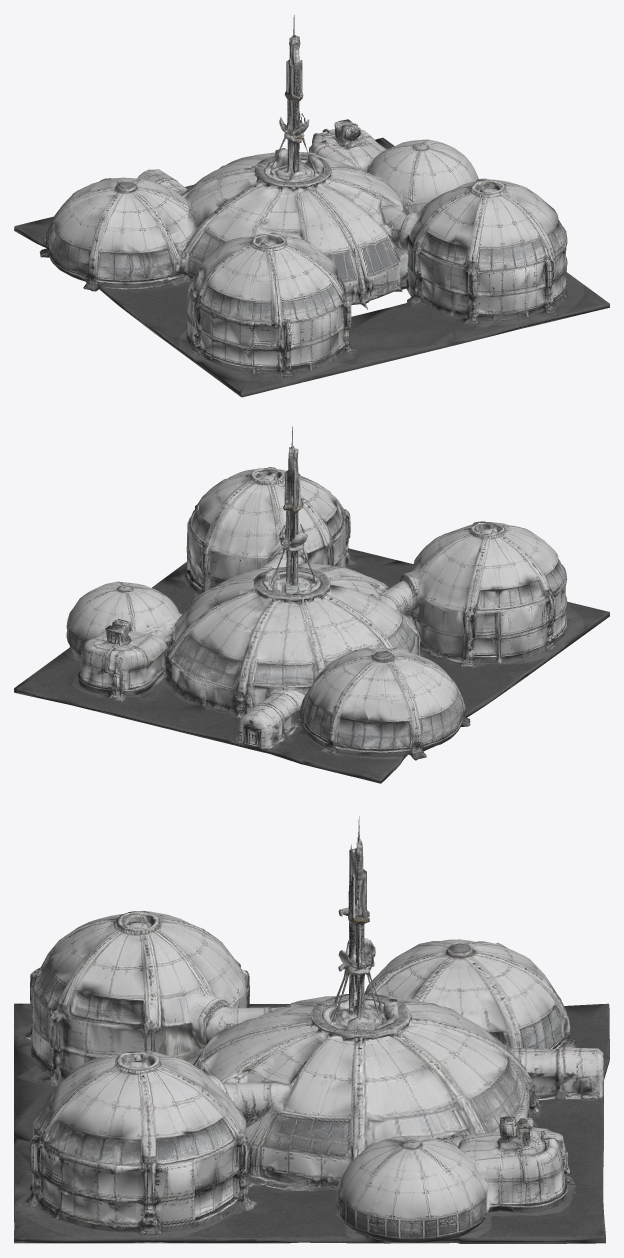
Rendered from lunarBase.glb.
The picture shows the model from 3 angles, top to bottom: view 1: azimuth 30°, elevation 25°; view 2: azimuth 150°, elevation 25°; view 3: azimuth 270°, elevation 25°; orthographic projection. The views are drawn at different scales.
Size of the model in its own units: 1.89 by 1.11 by 1.9.
1 material, 1 textured.
